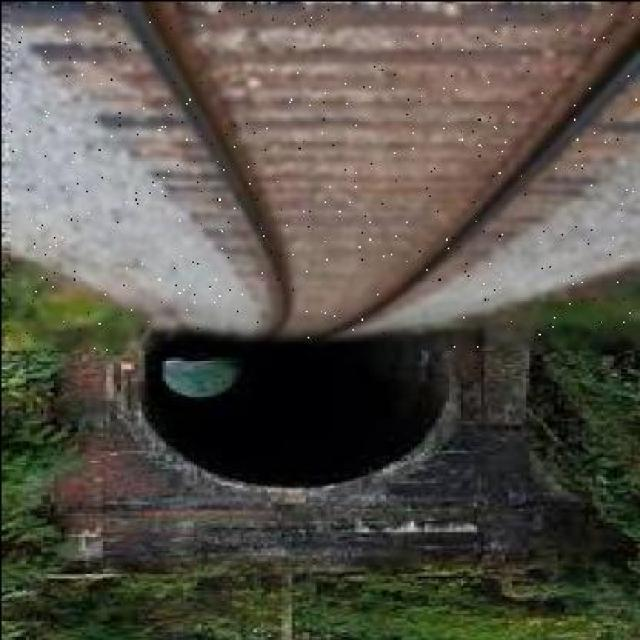rail: (9, 5, 640, 348)
